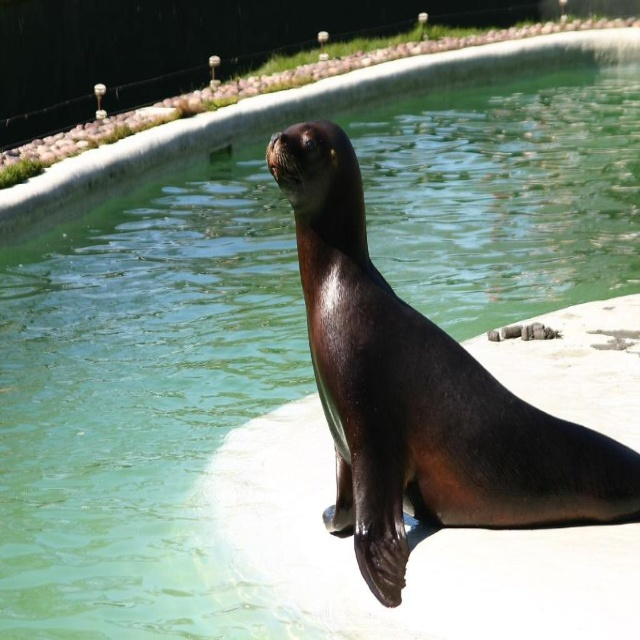Harbor seal: (257, 96, 603, 598)
